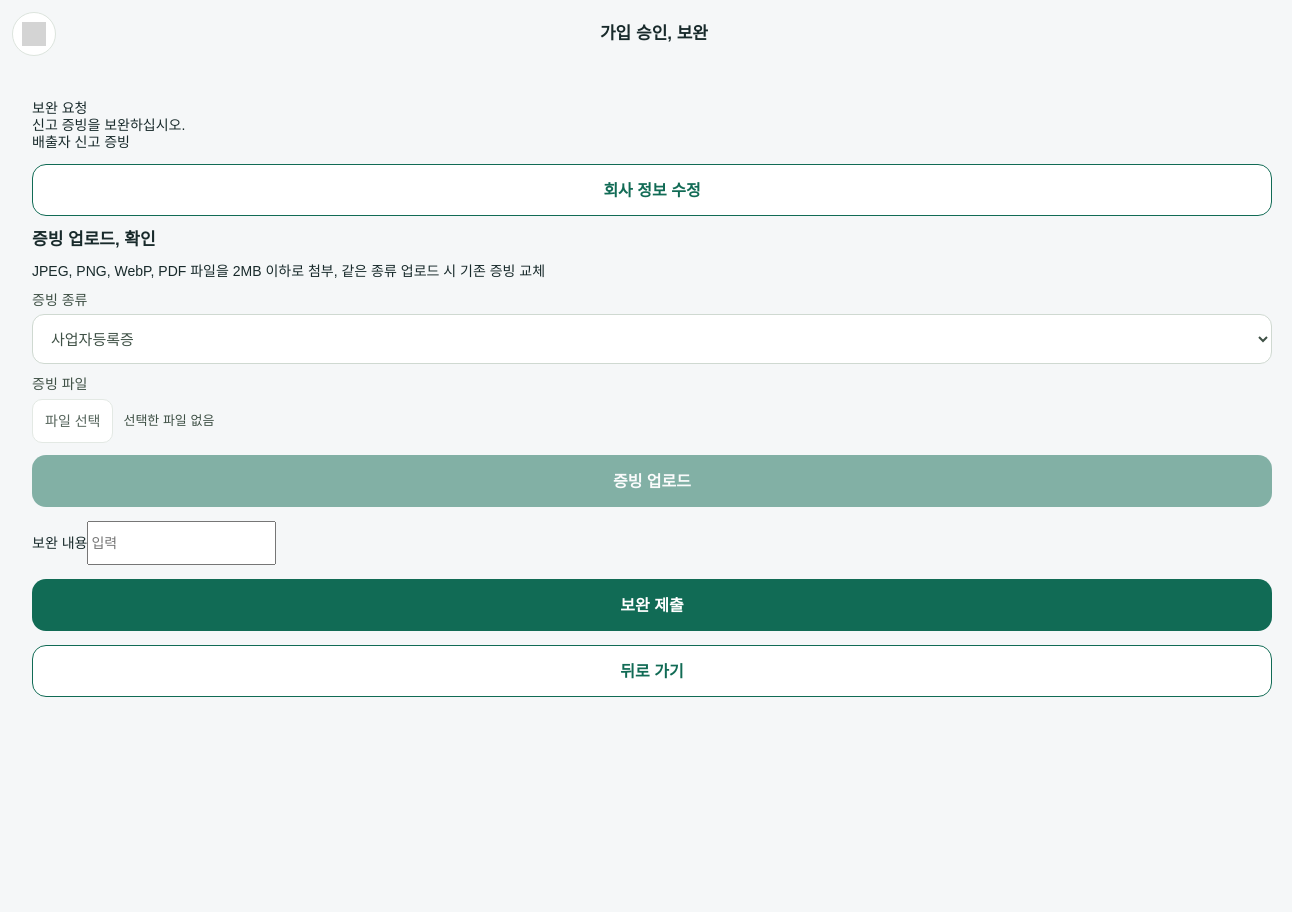
Scenario: 10 보완 요청·증빙 제출 뒤 승인 대기로 갱신
Expected: the text "보완 요청" is shown, [32,100,87,116]
In the field labelled "보완 내용": (182,543) [87,521,276,565], type "증빙을 교체했습니다."
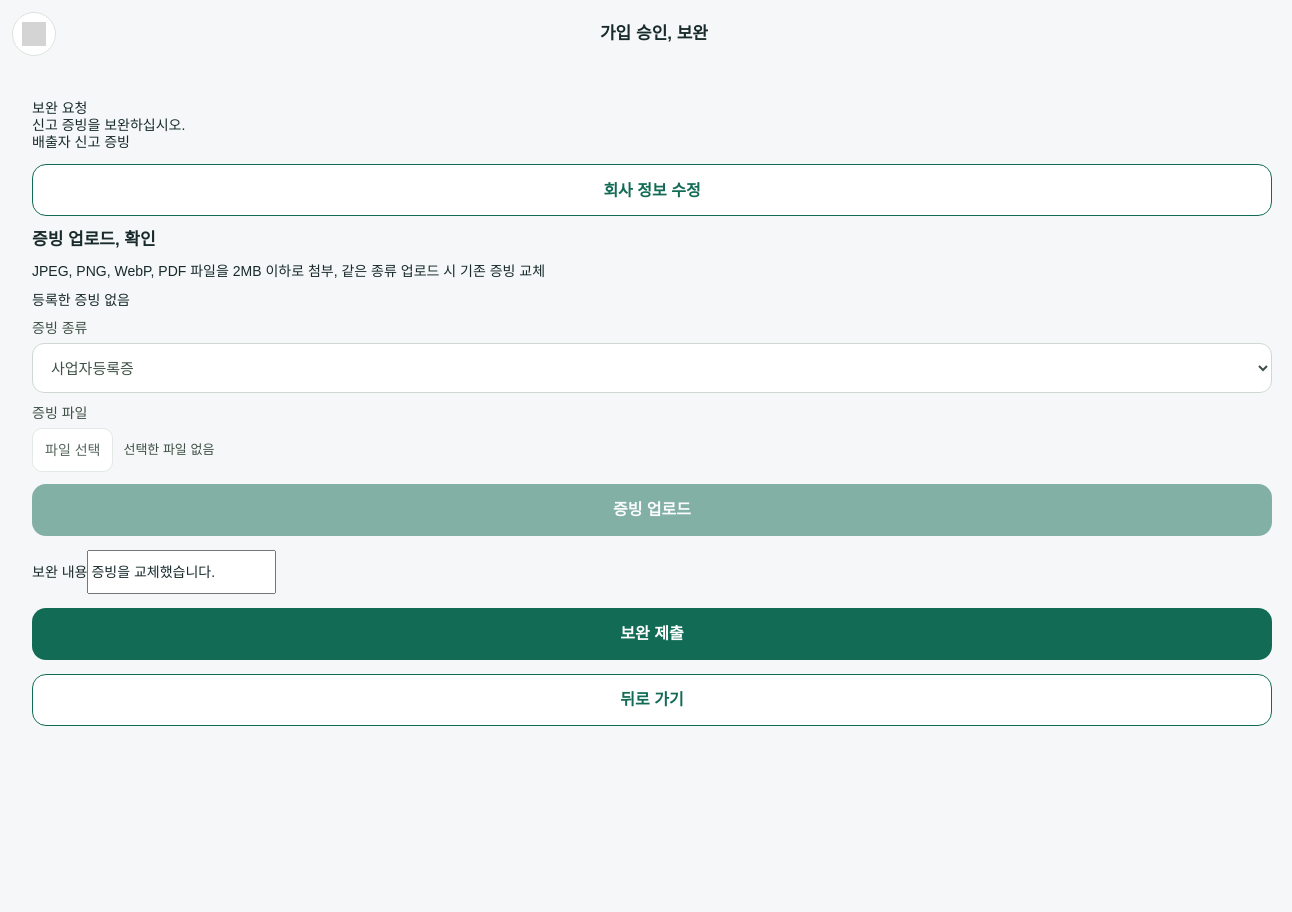
Click the button "보완 제출": (652,634) [32,608,1272,660]
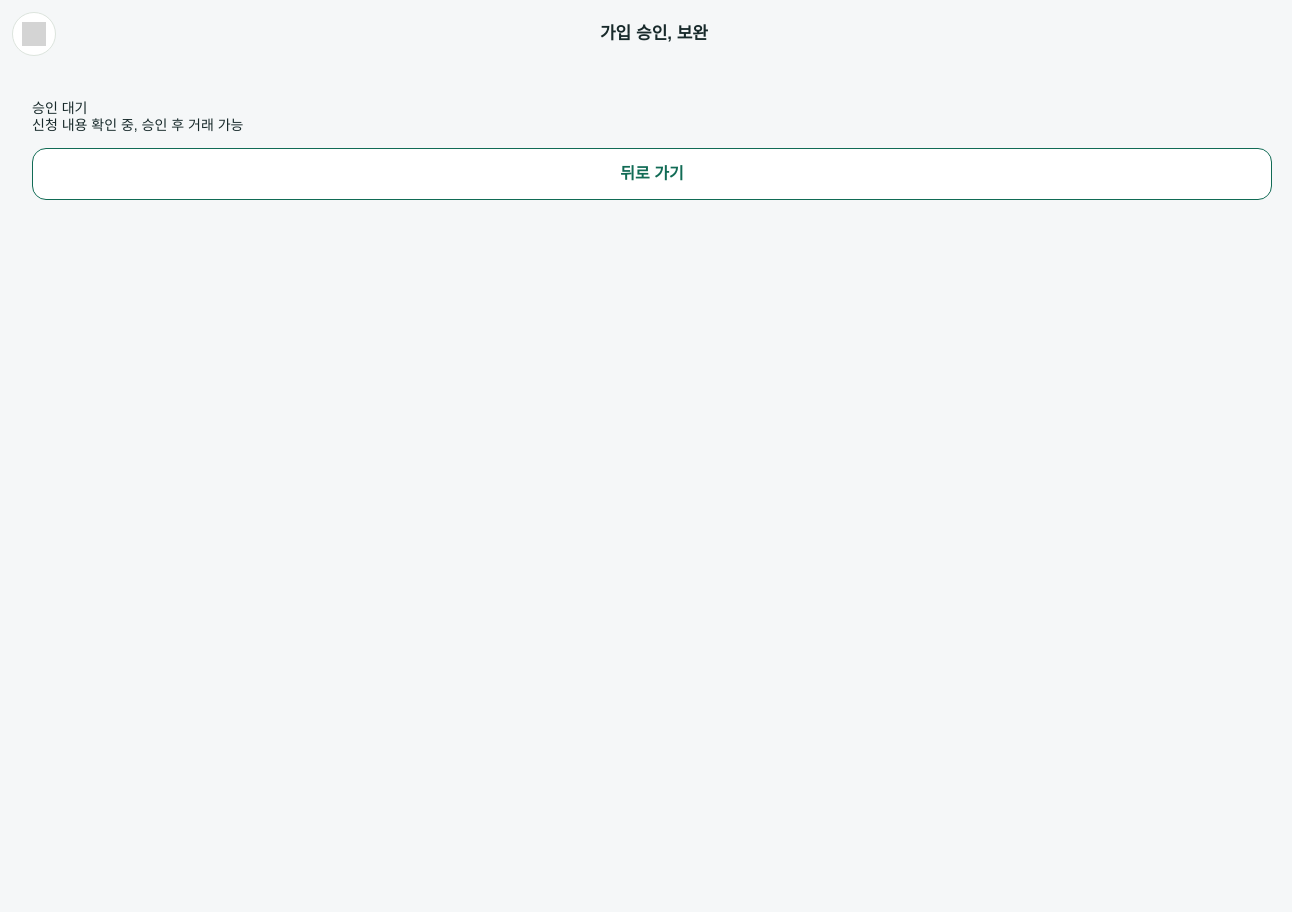
Now the text "승인 대기" is shown, box [32,100,87,116]
Now the button "보완 제출" is gone
